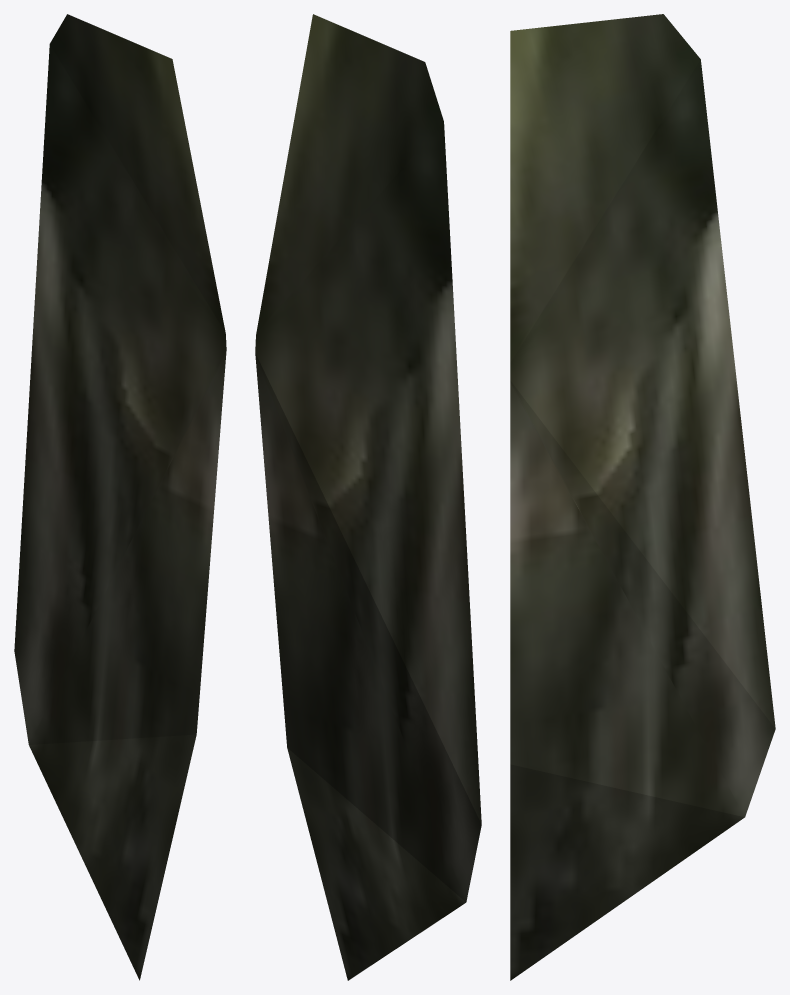
The picture shows the model from 3 angles, left to right: view 1: azimuth 30°, elevation 25°; view 2: azimuth 210°, elevation 25°; view 3: azimuth 270°, elevation 25°; orthographic projection. The views are drawn at different scales.
Size of the model in its own units: 0.1899 by 1.91 by 0.4749.
Materials: 1 (1 with a texture image).
